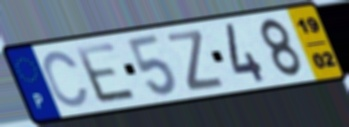4: (224, 21, 265, 85)
5: (124, 32, 180, 98)
8: (257, 15, 305, 81)
C: (42, 49, 91, 110)
E: (72, 39, 141, 106)
Z: (164, 28, 227, 93)
